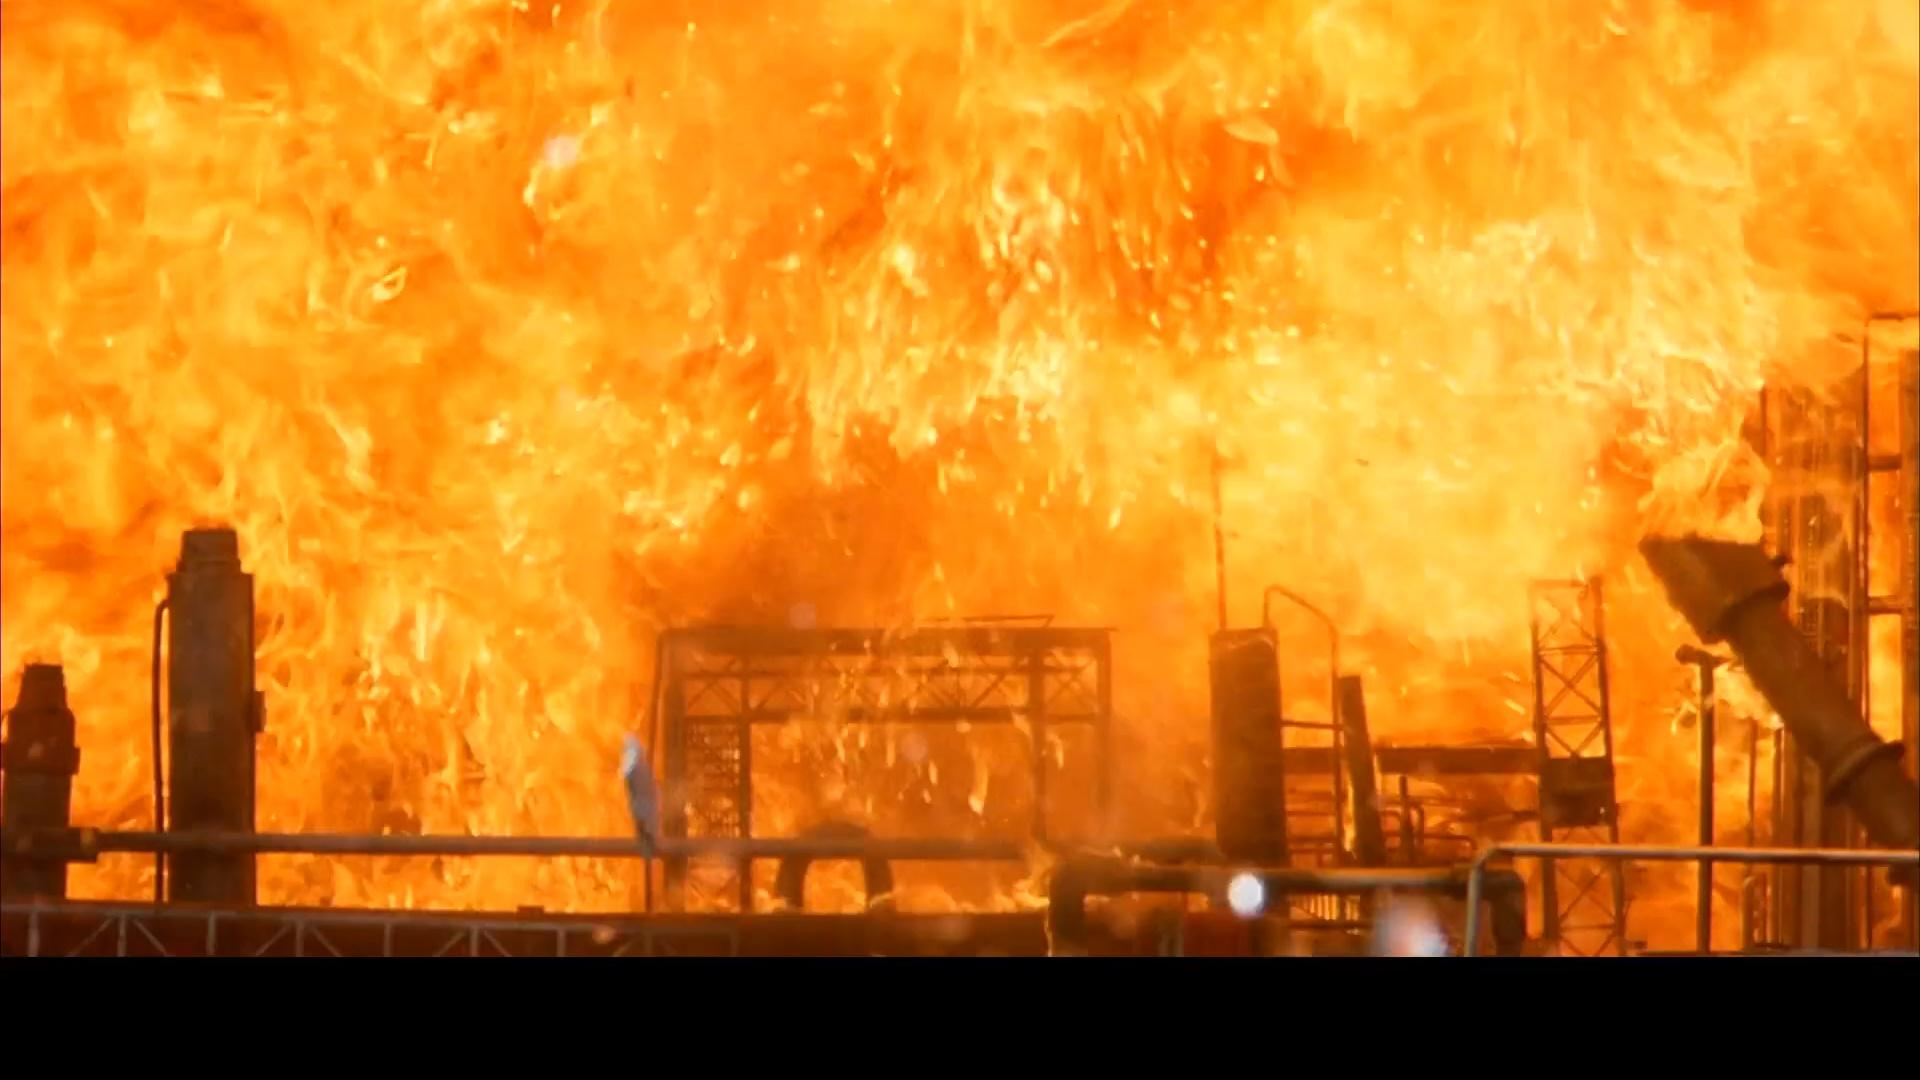fire: (18, 0, 1920, 923)
